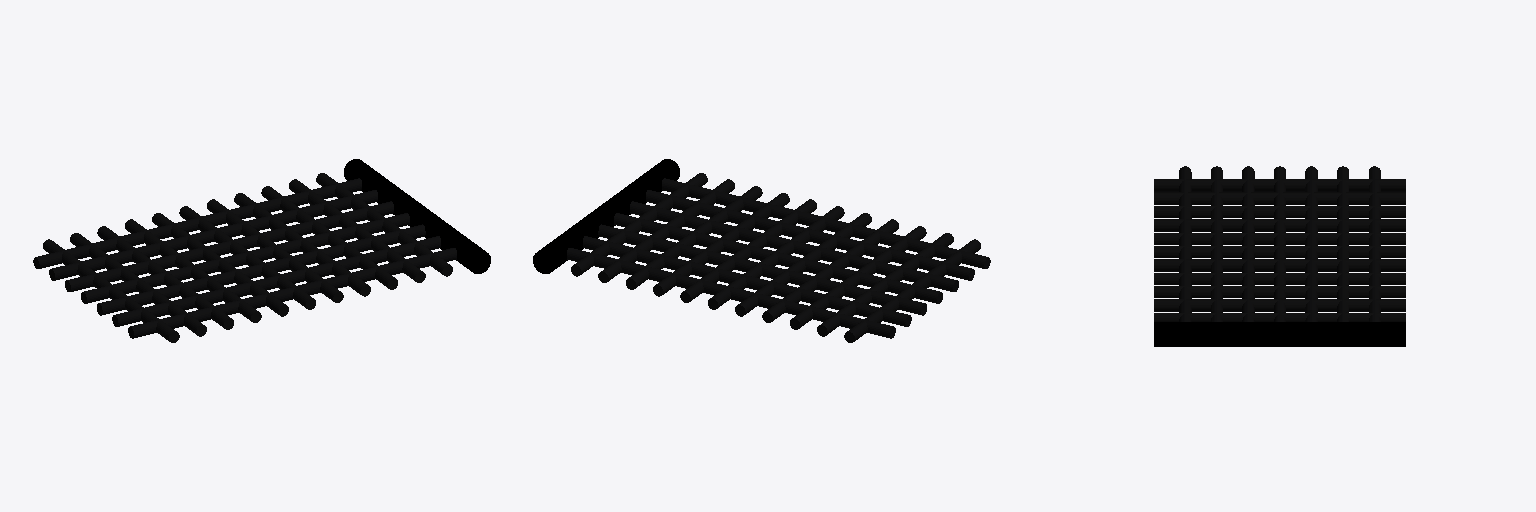
File: Fence.obj
The picture shows the model from 3 angles: view 1: azimuth 30°, elevation 25°; view 2: azimuth 150°, elevation 25°; view 3: azimuth 270°, elevation 25°; orthographic projection.
Parts seen in each view (by area): view 1: mast_middle; view 2: mast_middle; view 3: mast_middle.
Part boxes in pixels (bbox=[...]): mast_middle: bbox=[33, 159, 490, 342]; mast_middle: bbox=[533, 159, 990, 342]; mast_middle: bbox=[1154, 166, 1405, 346].
Bounding box in the file's own units: 3.15 × 0.1971 × 2.